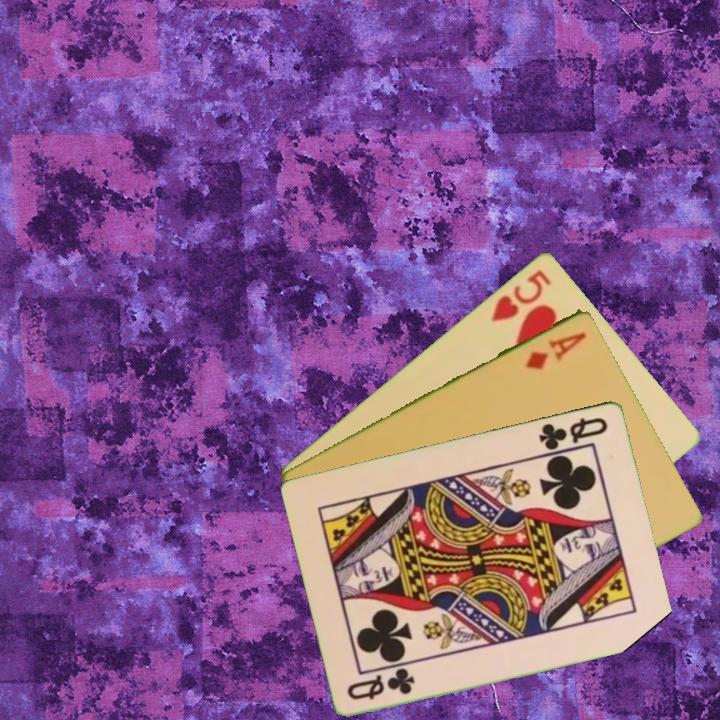5h: (487, 265, 555, 325)
Ad: (522, 328, 590, 372)
Qc: (535, 413, 611, 453), (343, 665, 418, 703)
